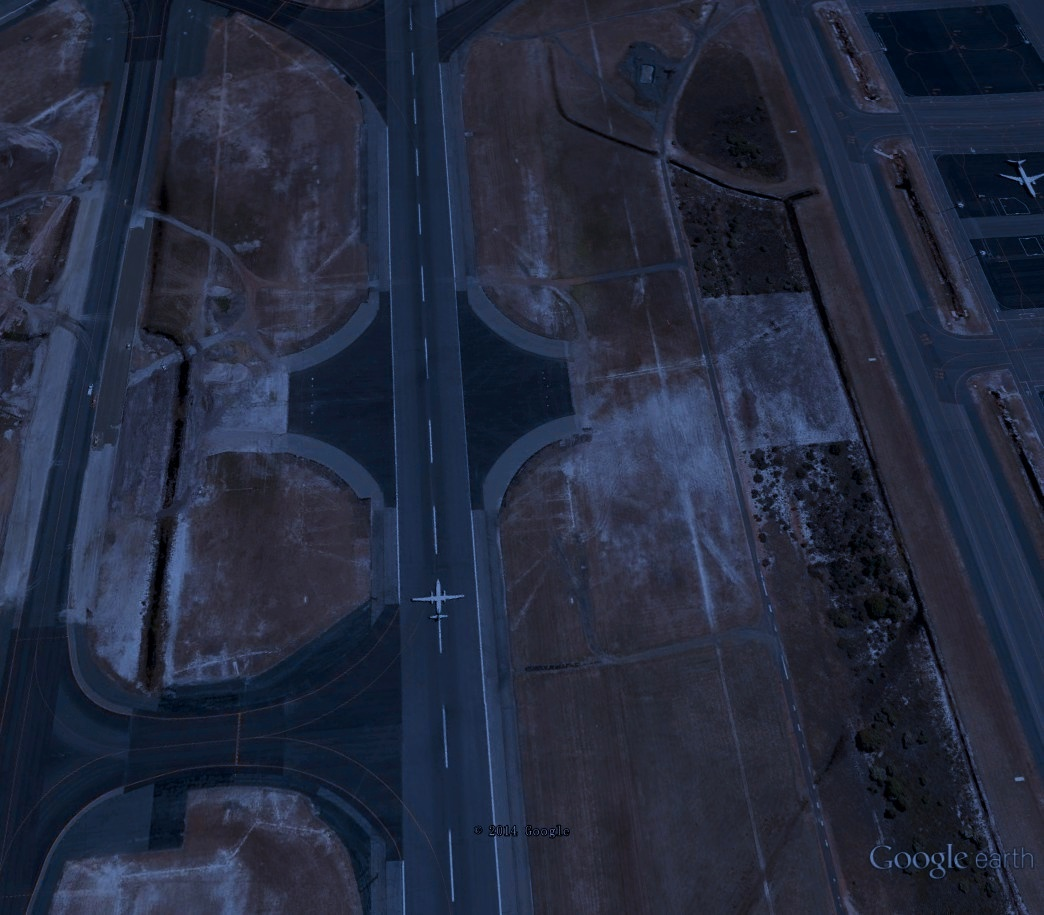aircraft: (406, 574, 471, 627), (994, 154, 1041, 202)
